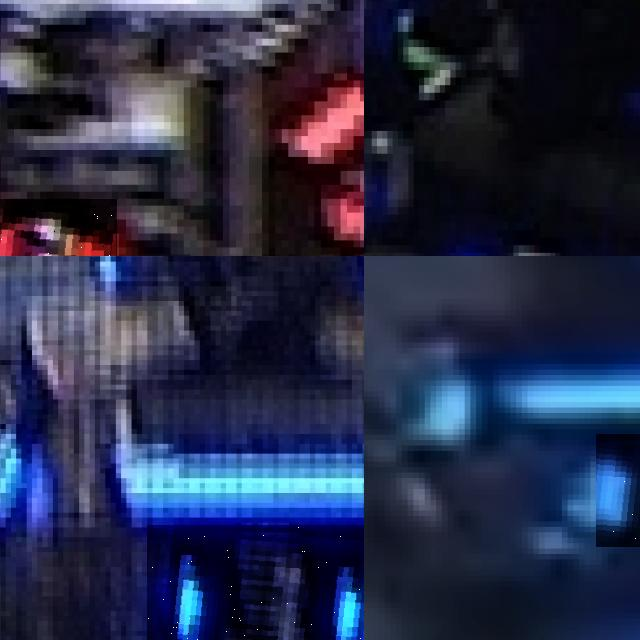B3: (147, 524, 364, 640), (0, 362, 52, 525)
B5: (596, 434, 640, 548)
R3: (0, 198, 118, 256)
